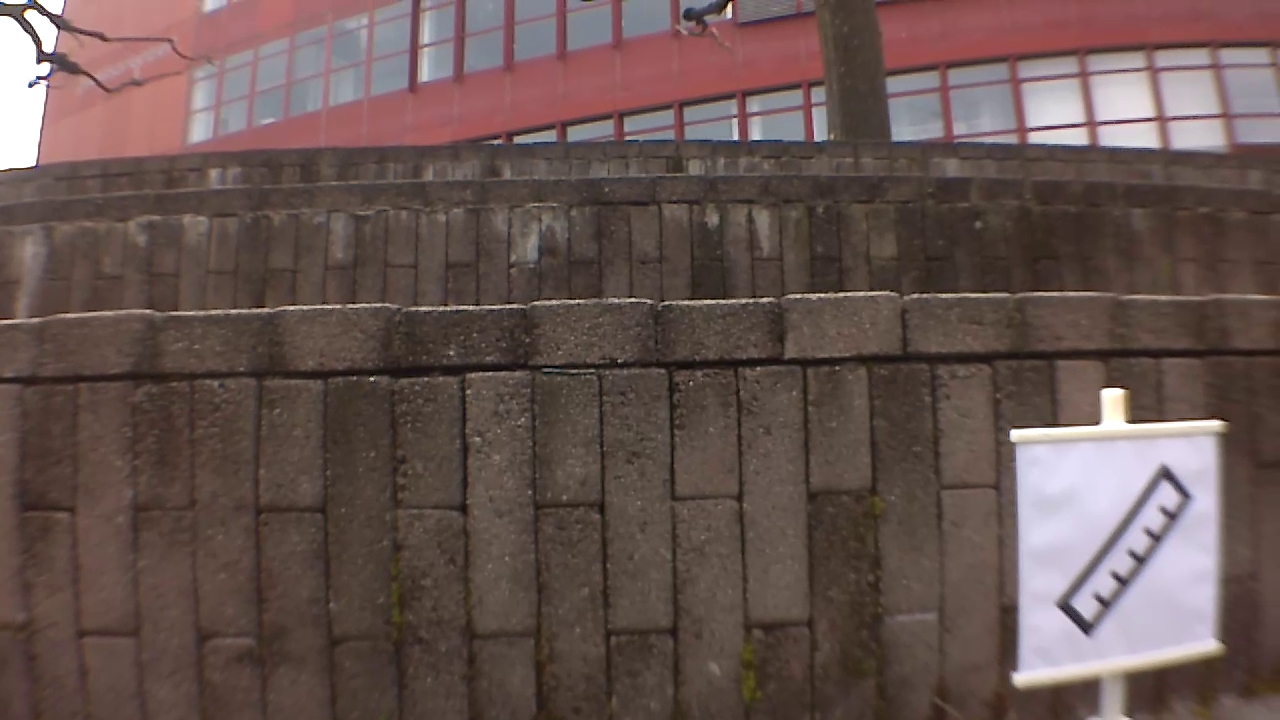ruler: (1051, 463, 1200, 642)
